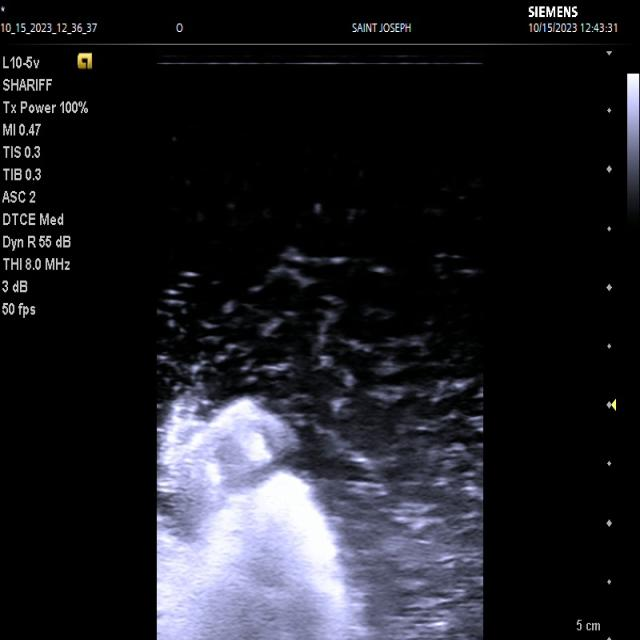tissue: (157, 397, 370, 640)
